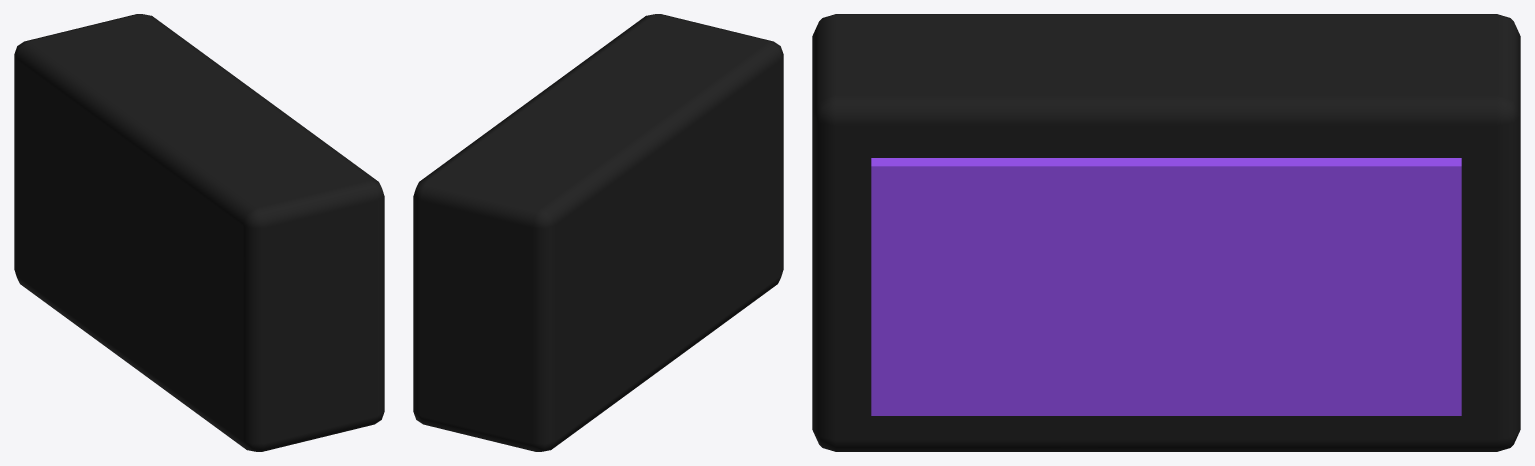
File: violet_lamp.glb
3 renders of one model, left to right at view 1: azimuth 30°, elevation 25°; view 2: azimuth 150°, elevation 25°; view 3: azimuth 270°, elevation 25°, orthographic. The views are drawn at different scales.
Visible parts, largest first — view 1: gehaeuse; view 2: gehaeuse; view 3: gehaeuse, scheibe.
Part boxes in pixels (left/top/right/bottom): gehaeuse: left=14, top=14, right=384, bottom=451; gehaeuse: left=413, top=14, right=783, bottom=451; gehaeuse: left=812, top=14, right=1520, bottom=451; scheibe: left=871, top=158, right=1461, bottom=415.
Size of the model in its own units: 0.065 by 0.1 by 0.18.
